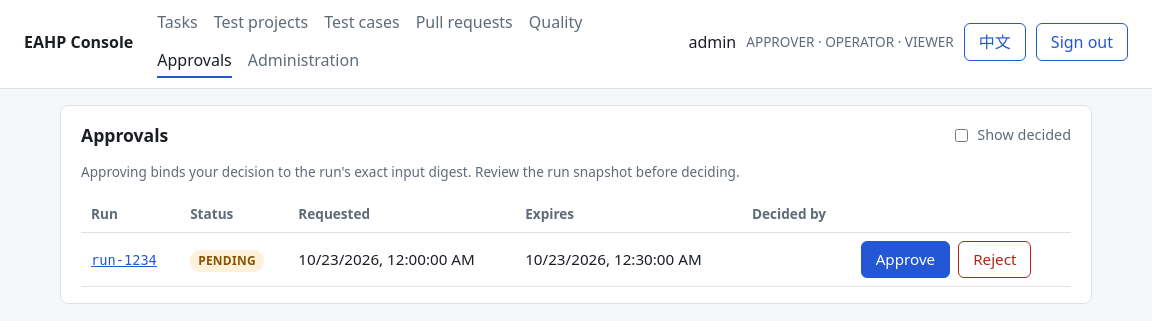
Scenario: console › approves a pending request with its exact digest
Click the button "Approve" at point(905, 260), box [861,241,950,278]
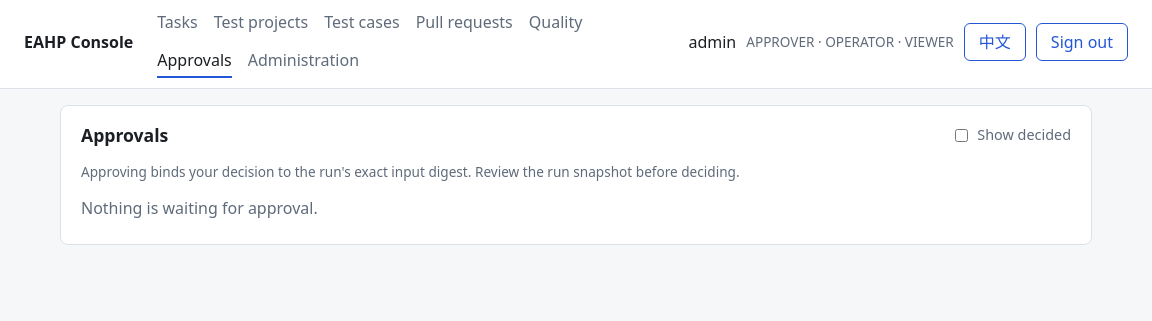
Result: the text "Nothing is waiting for approval." is shown at [81,197,318,219]
